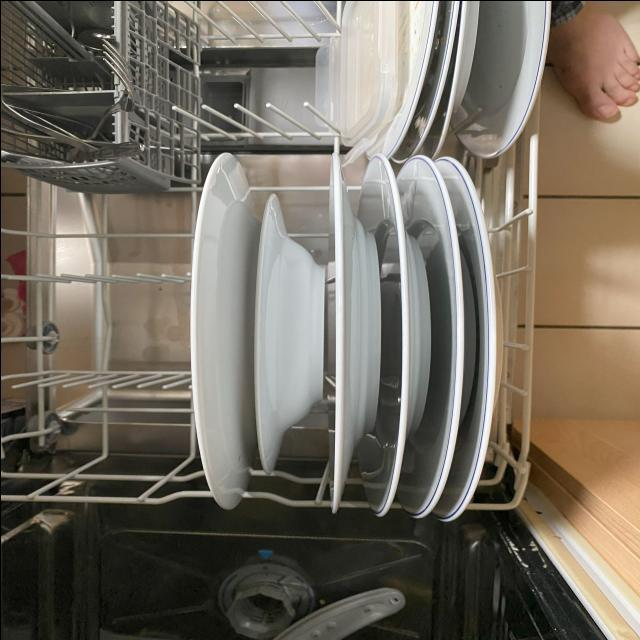clutery_bin: (7, 1, 109, 172)
empty_slot: (16, 191, 187, 491), (189, 0, 319, 163)
